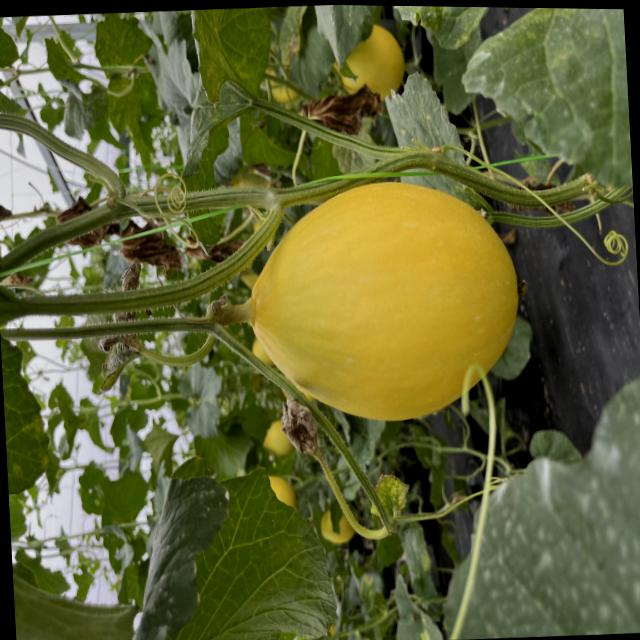bacterial wilt: (274, 395, 316, 461)
downy mildew: (112, 455, 335, 640), (169, 5, 287, 199)
